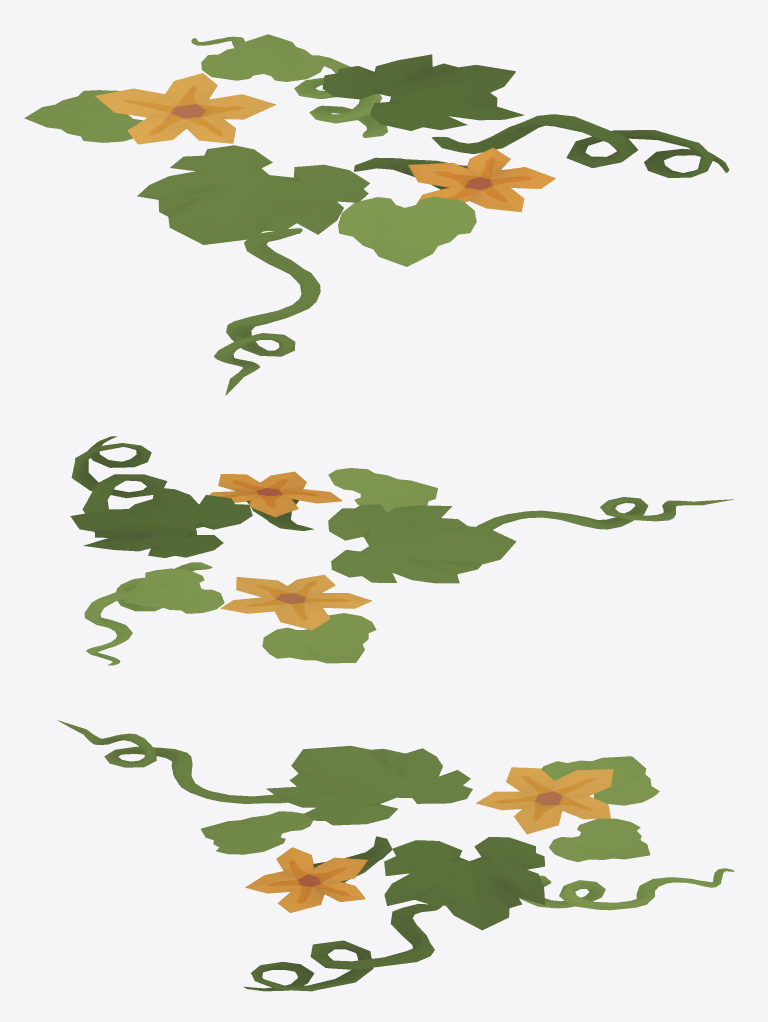
The model's file is SM_Env_Pumpkin_Leaves_01.fbx.
3 renders of one model, top to bottom at view 1: azimuth 30°, elevation 25°; view 2: azimuth 150°, elevation 25°; view 3: azimuth 270°, elevation 25°, orthographic. The views are drawn at different scales.
Parts seen in each view (by area): view 1: SM_Env_Pumpkin_Leaves_01; view 2: SM_Env_Pumpkin_Leaves_01; view 3: SM_Env_Pumpkin_Leaves_01.
Part boxes in pixels (<box>): SM_Env_Pumpkin_Leaves_01: <box>24,34,729,395</box>; SM_Env_Pumpkin_Leaves_01: <box>70,436,734,665</box>; SM_Env_Pumpkin_Leaves_01: <box>57,720,734,991</box>.
Bounding box in the file's own units: 326 × 20.19 × 342.
